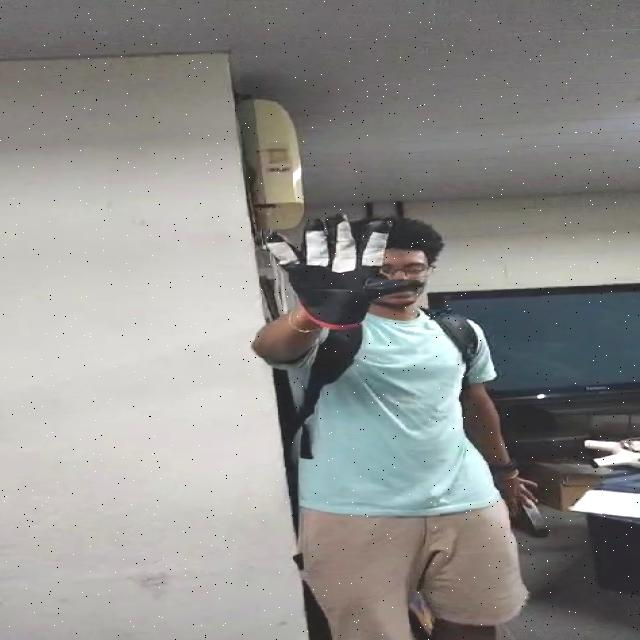Gloves: (247, 212, 426, 322)
